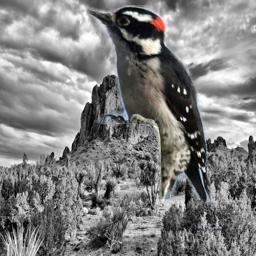Woodpecker: (86, 5, 213, 202)
